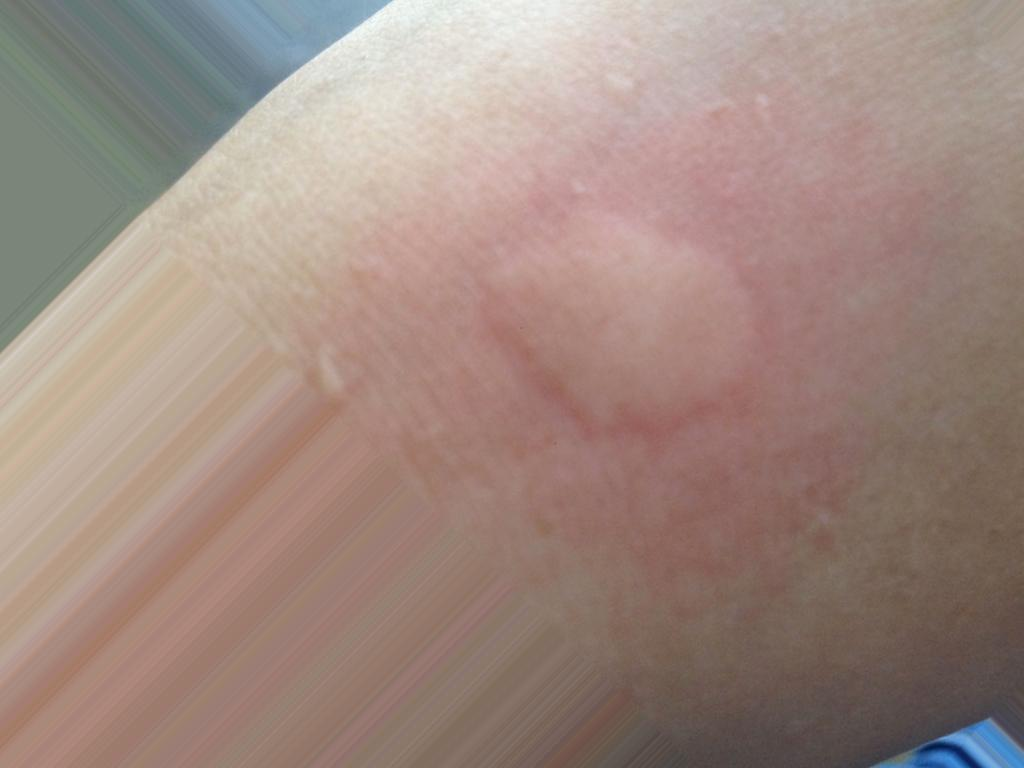Mosquito: (450, 139, 814, 512)
